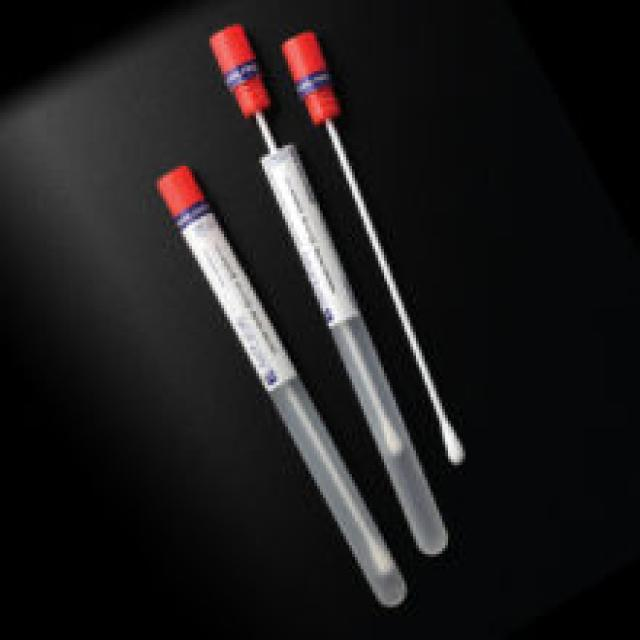B3: (141, 134, 410, 634)
